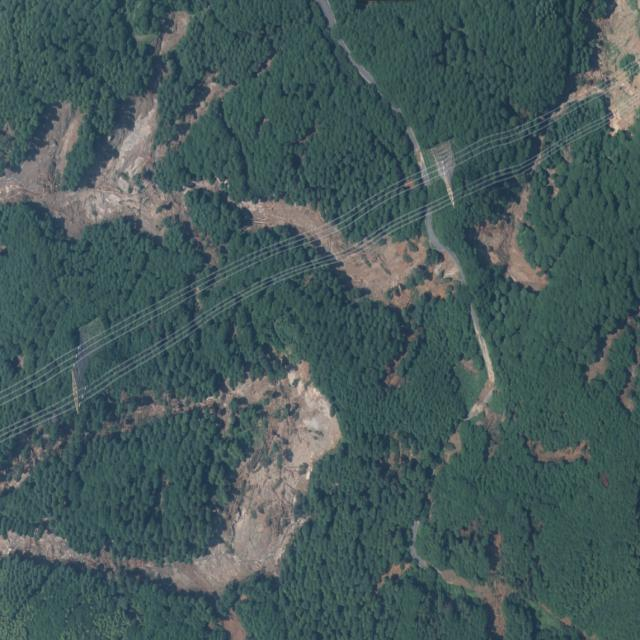landslide: (0, 364, 341, 596), (166, 365, 341, 588), (0, 91, 163, 234), (244, 201, 425, 300), (248, 202, 425, 299), (561, 0, 640, 128), (478, 183, 550, 292), (478, 184, 549, 291), (0, 114, 78, 201), (442, 569, 518, 639), (601, 0, 640, 130), (443, 574, 512, 636), (103, 101, 154, 179), (585, 313, 640, 384), (389, 260, 457, 307), (529, 441, 591, 464)
